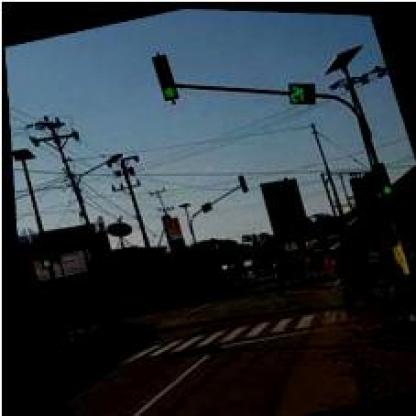green: (146, 48, 180, 99), (368, 156, 390, 192)
